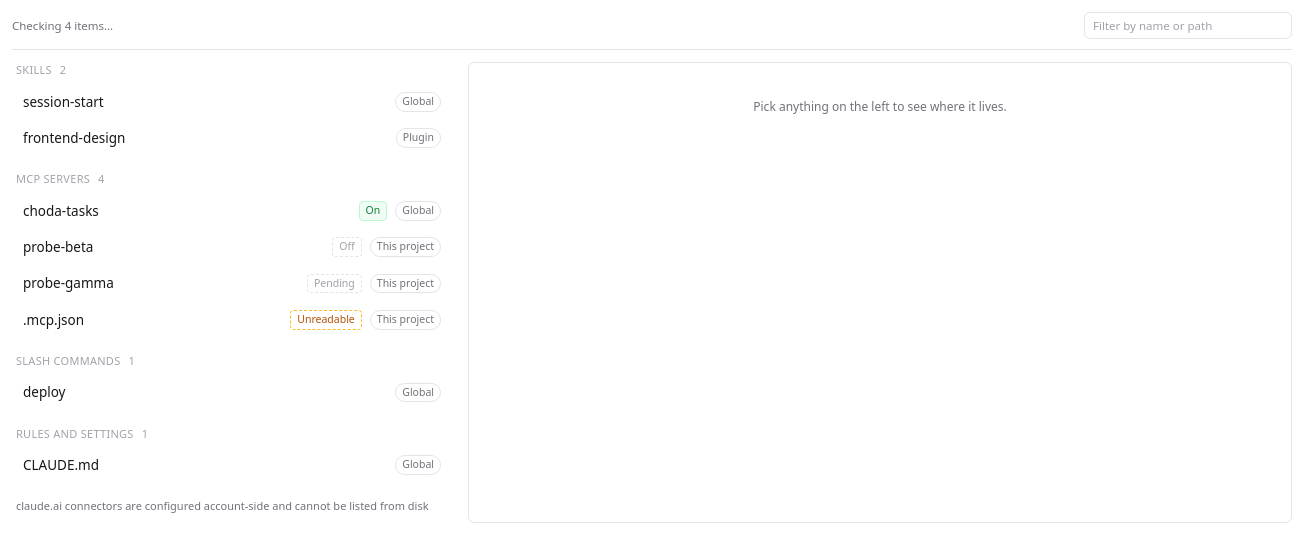
AC-3 — an unreadable .mcp.json is one row, not a broken tab › renders the parse message and leaves the other groups intact
The width and height of the screenshot is (1304, 540).
Click the button with test id "setup-row-mcp:project:.mcp.json".
click(54, 320)  # box left=12, top=302, right=452, bottom=337
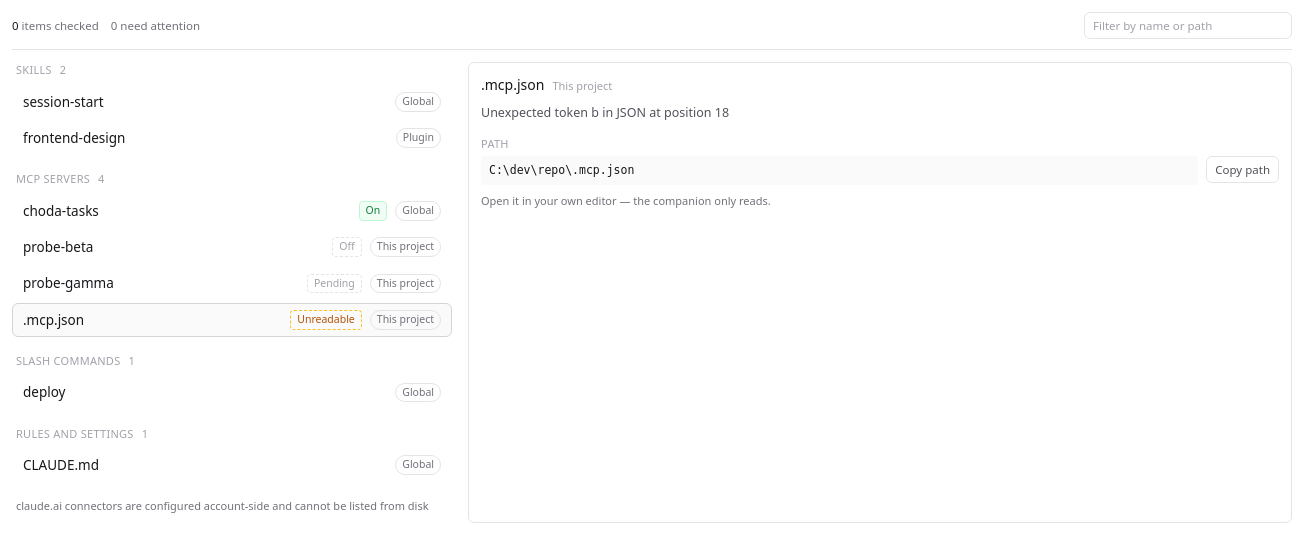
Now the text "Unexpected token b in JSON at position 18" is shown, box left=481, top=104, right=729, bottom=121
